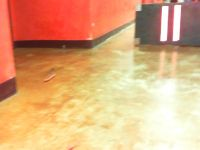switch: (172, 5, 181, 42), (160, 6, 169, 42)
